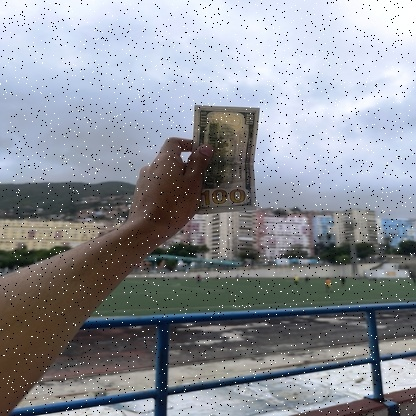one_hundred-back: (185, 99, 263, 218)
